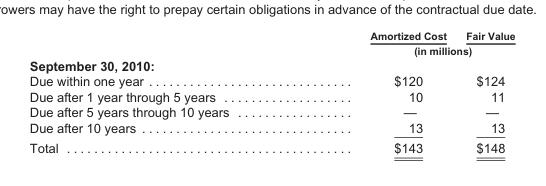table: (28, 28, 514, 154)
table column: (28, 28, 299, 154), (299, 28, 455, 154), (455, 28, 514, 154)
table column header: (28, 28, 514, 56)
table projected row header: (28, 56, 514, 72)
table row: (28, 119, 514, 137), (28, 137, 514, 154), (28, 56, 514, 72), (28, 72, 514, 88), (28, 103, 514, 119), (28, 88, 514, 103), (28, 28, 514, 42), (28, 42, 514, 56)
table spanning cell: (299, 42, 514, 56)
